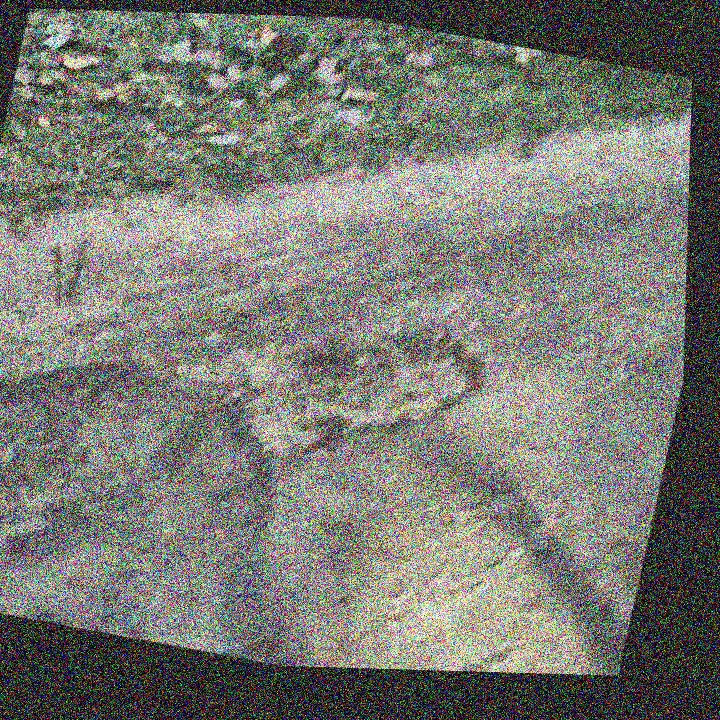pothole: (223, 296, 500, 489)
